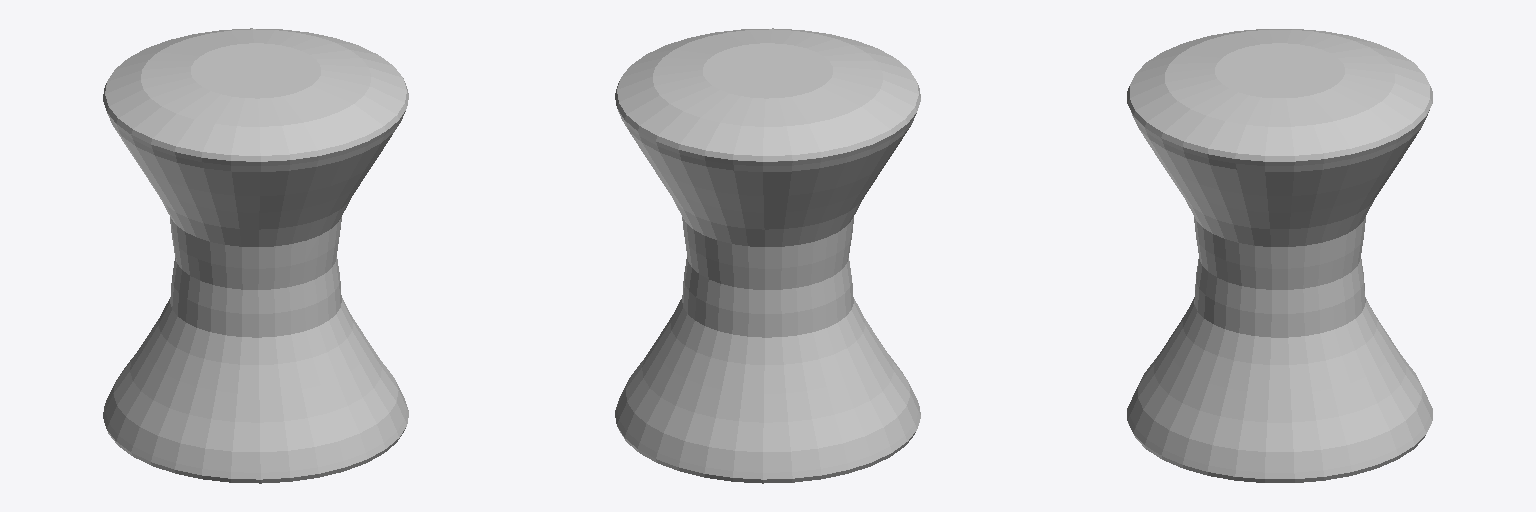
The model's file is art_spring.obj.
3 renders of one model, left to right at view 1: azimuth 30°, elevation 25°; view 2: azimuth 150°, elevation 25°; view 3: azimuth 270°, elevation 25°, orthographic.
Parts seen in each view (by area): view 1: art_dummy_Cylinder; view 2: art_dummy_Cylinder; view 3: art_dummy_Cylinder.
Boxes of the visible parts, x1=… form: art_dummy_Cylinder: x1=103, y1=28, x2=408, y2=483; art_dummy_Cylinder: x1=615, y1=28, x2=920, y2=483; art_dummy_Cylinder: x1=1127, y1=29, x2=1432, y2=482.
Bounding box in the file's own units: 3.12 × 4.17 × 3.12.